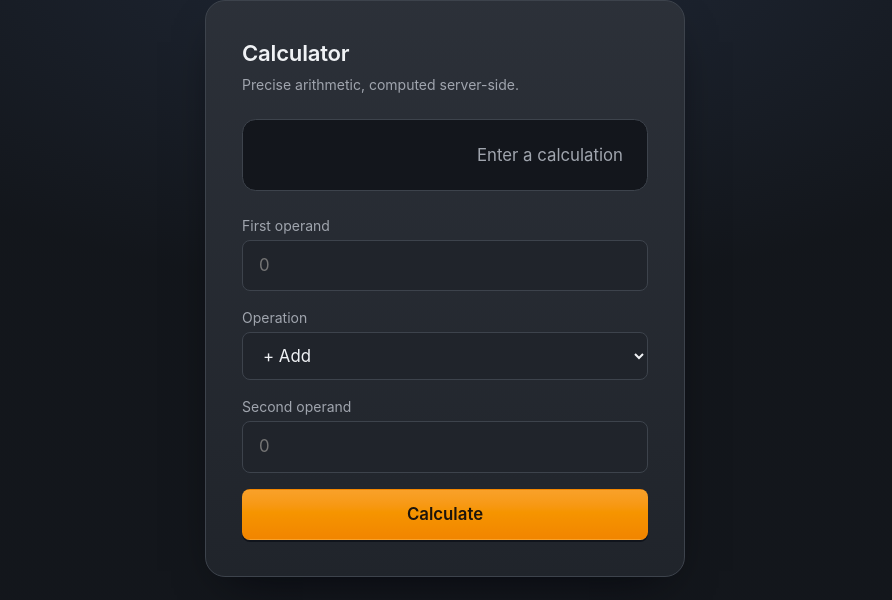
Test case: Calculator › displays the quotient when the user computes 9 ÷ 4
The image size is (892, 600).
Type "9" into the field labelled "First operand" at (445, 266), box [242,240,648,291]
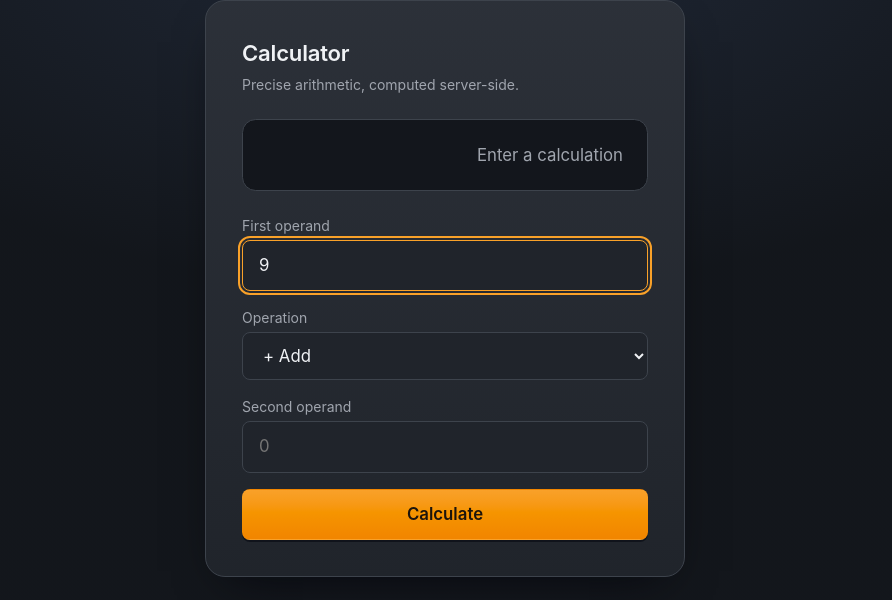
Select "÷ Divide" in the dropdown labelled "Operation" at (445, 356), box [242,332,648,380]
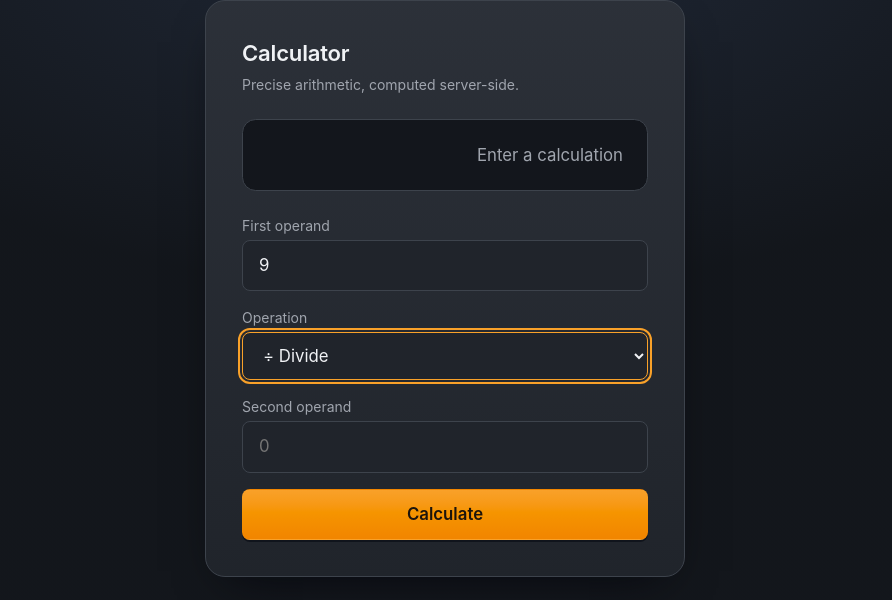
Type "4" into the field labelled "Second operand" at (445, 447), box [242,421,648,473]
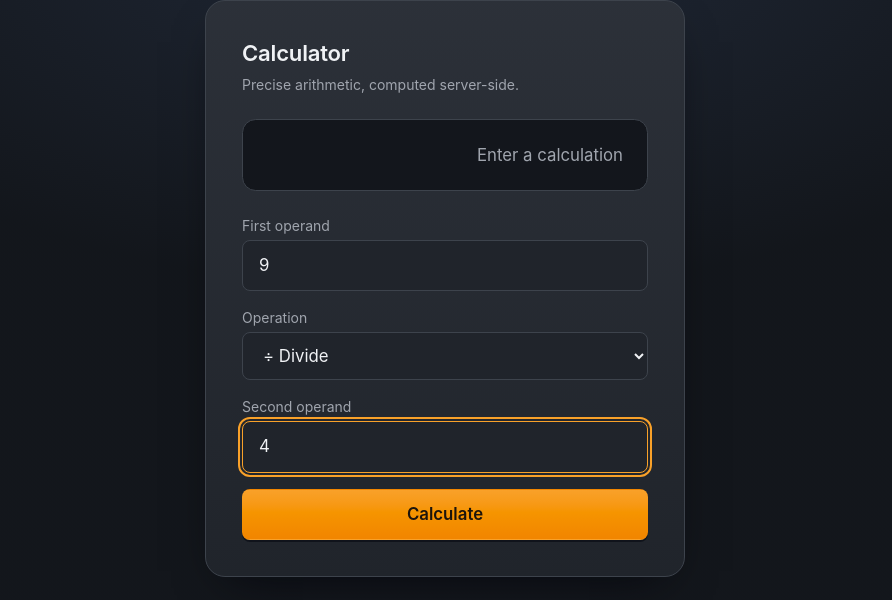
Click the button "Calculate" at (445, 514), box [242,489,648,540]
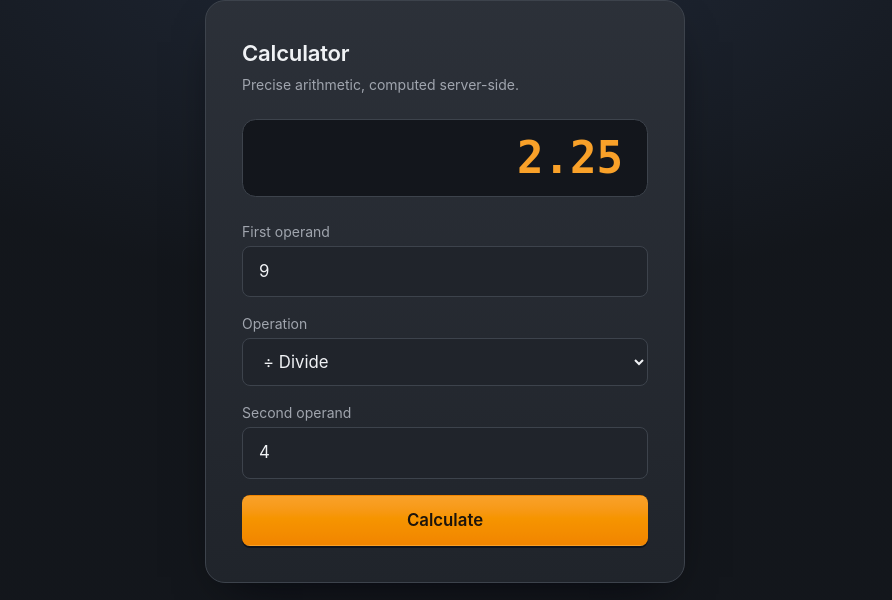
Now the text "2.25" is shown, box [517,136,623,180]
